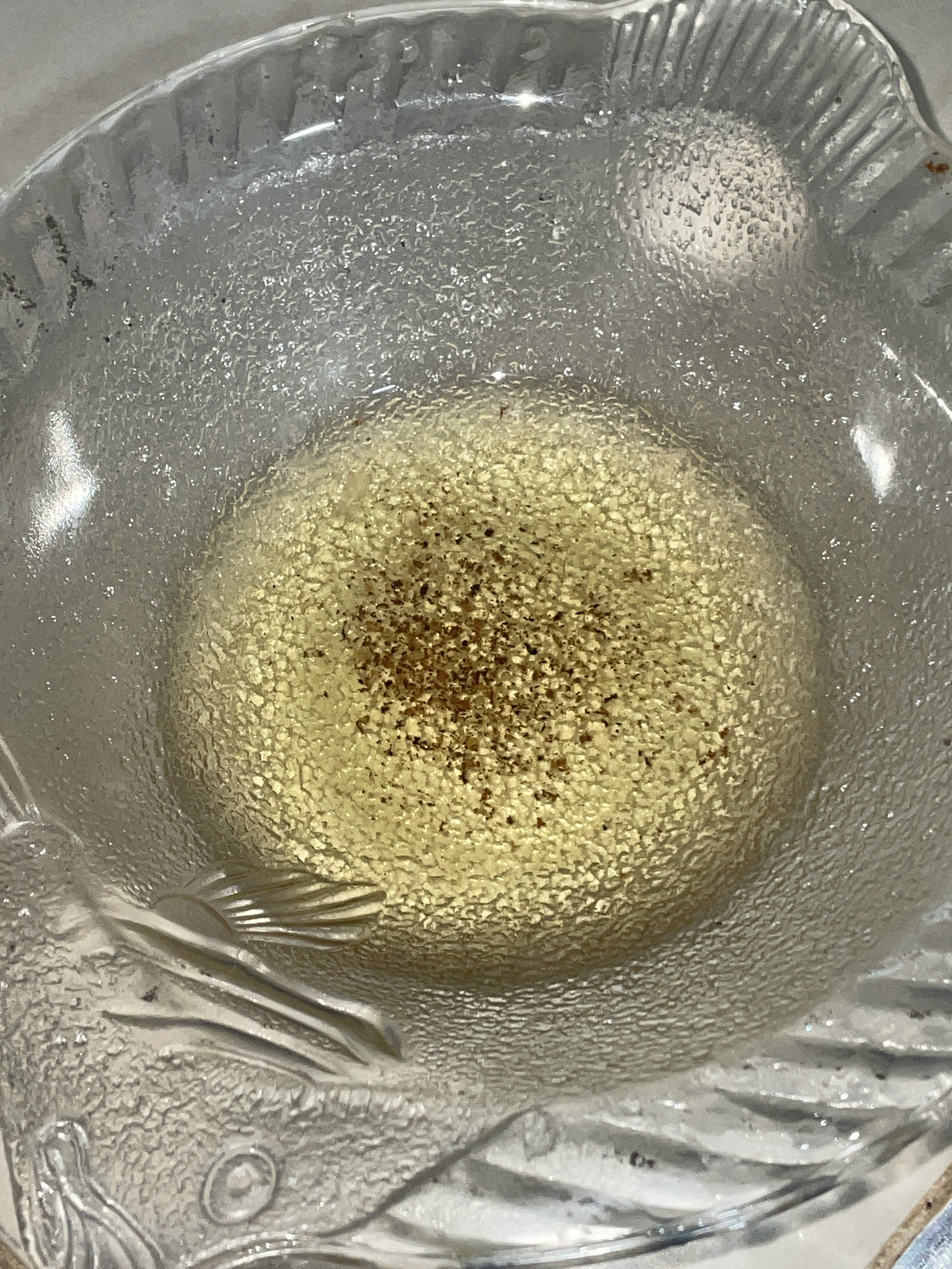reusable: (0, 403, 952, 988)
